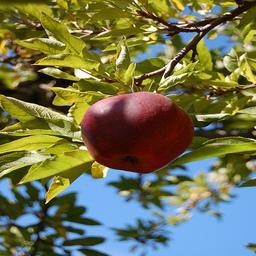apple: (80, 92, 193, 173)
